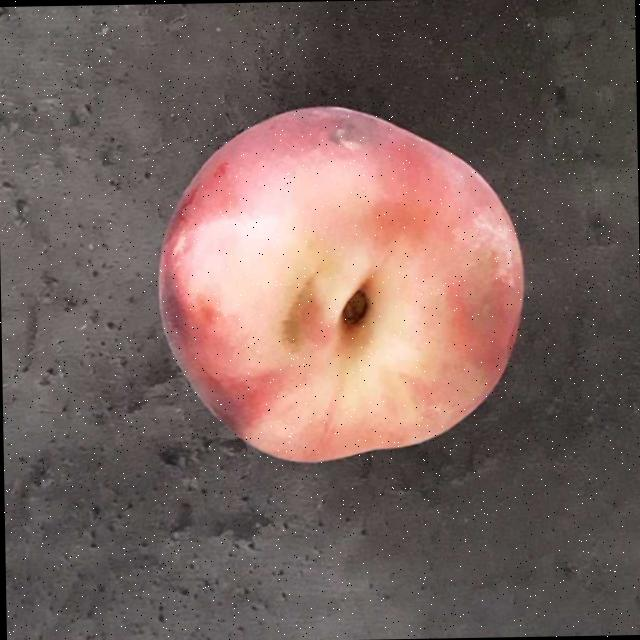peach: (146, 96, 520, 476)
